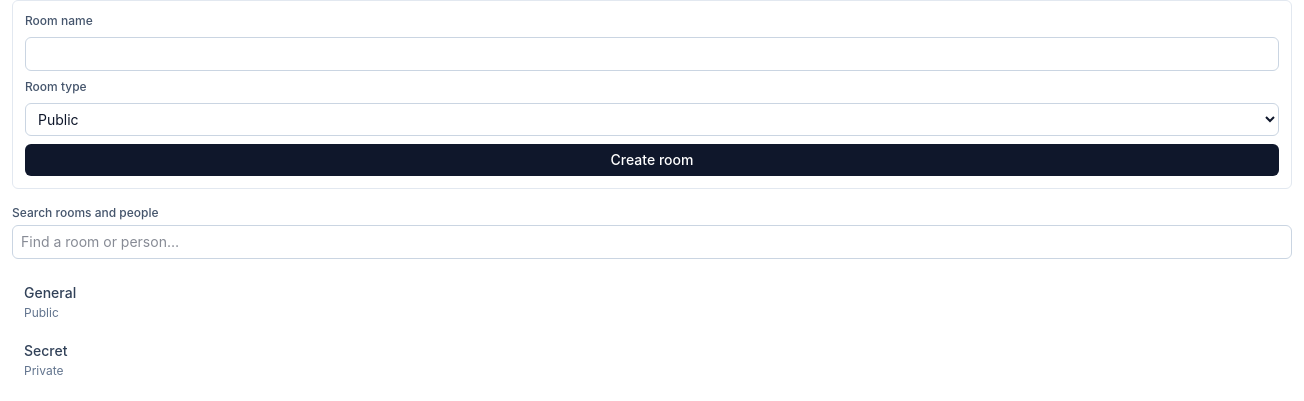
Test: RoomList › filters rooms and lists matching people
expect the link "General Public" is shown: met, box x1=24 y1=284 x2=76 y2=320
Type "secret" into the search field labelled "Search rooms and people" at (652,242), box x1=12 y1=225 x2=1292 y2=259
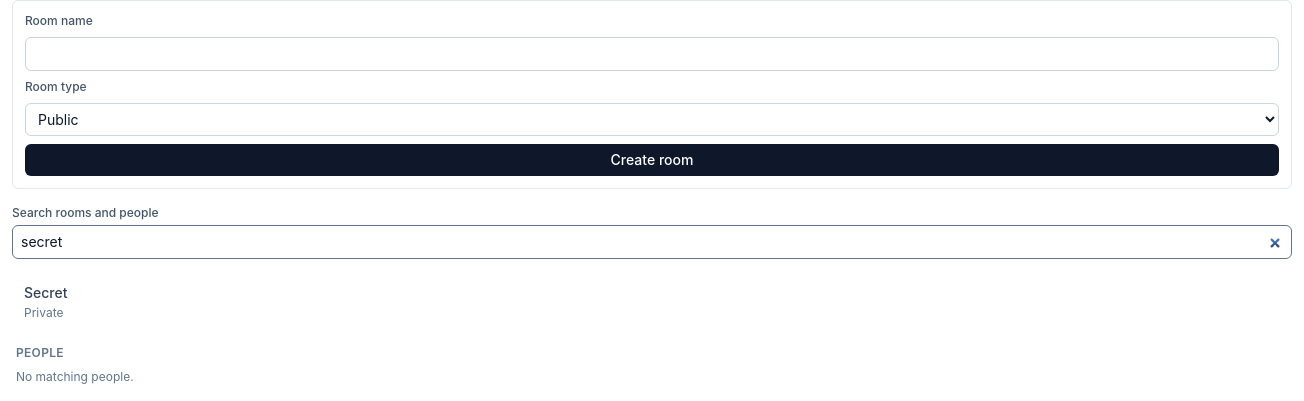
expect the link "Secret Private" is shown: met, box x1=24 y1=284 x2=68 y2=320
expect the link "General" is gone: met
Replace the text in the search field labelled "Search rooms and people" with "maria" at (652,242), box x1=12 y1=225 x2=1292 y2=259
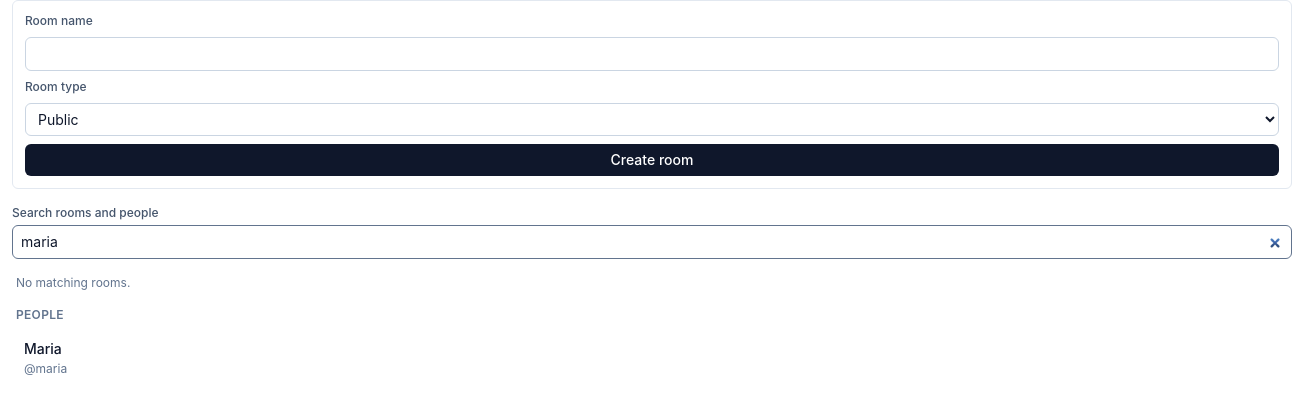
expect the button "Maria" is shown: met, box x1=24 y1=339 x2=62 y2=359
expect the text "@maria" is shown: met, box x1=24 y1=361 x2=67 y2=376
